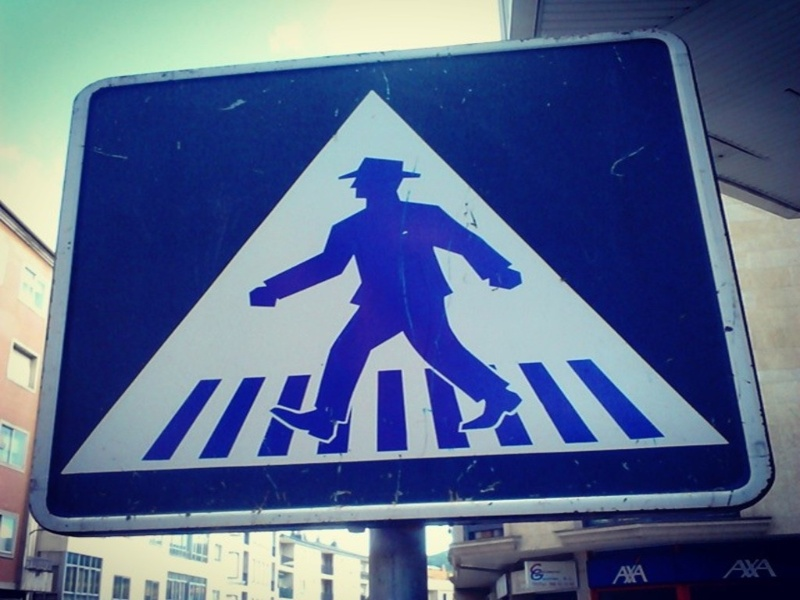pedestrian_crossing_ahead: (59, 75, 733, 519)
